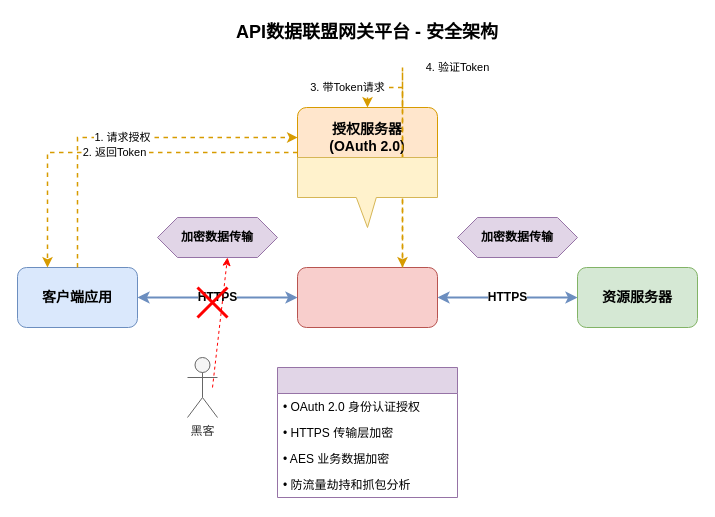
Image size: 715x517. Some labels were removed from this diagram. The shapes that lost their labels are listed below. From the top down, each one's box as (x1, y1, x2, y2) in pixels, then its label:
(296, 156, 438, 228): AES加密算法 所有业务字段加密传输
(296, 266, 438, 328): API数据联盟网关平台
(276, 366, 458, 498): 安全保障
